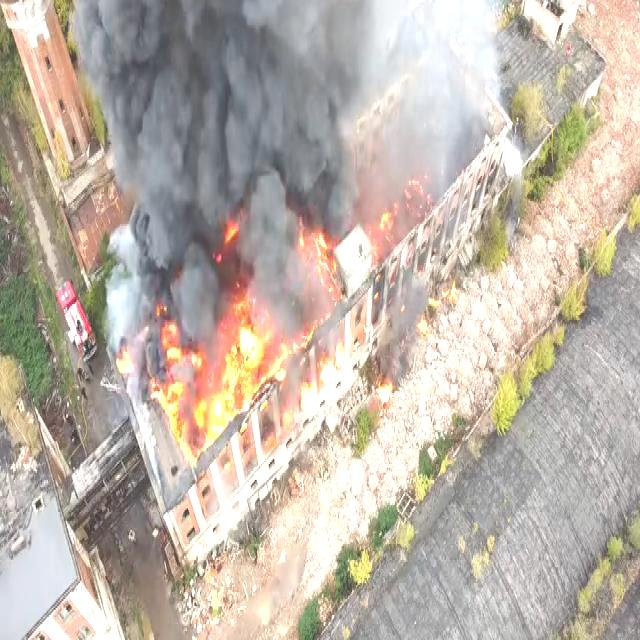fire: (166, 352, 204, 428), (198, 346, 232, 420), (219, 320, 258, 384), (293, 352, 317, 417), (180, 404, 208, 447), (314, 341, 342, 384), (372, 205, 398, 249), (157, 320, 180, 366), (408, 171, 431, 214), (311, 234, 336, 270), (258, 400, 274, 450), (394, 184, 412, 227), (378, 376, 397, 406), (116, 339, 133, 367), (326, 270, 340, 302), (418, 315, 433, 336), (449, 280, 462, 298)
smoke: (170, 78, 232, 158), (408, 77, 472, 147), (148, 163, 192, 264), (218, 137, 283, 201), (110, 86, 168, 156), (111, 226, 170, 292), (288, 89, 338, 164), (236, 82, 284, 160), (123, 4, 170, 78), (306, 4, 345, 82), (178, 252, 216, 331), (338, 6, 382, 74), (371, 6, 416, 68), (260, 5, 300, 74), (253, 188, 294, 254), (69, 0, 122, 51), (176, 4, 214, 72), (218, 8, 258, 72), (430, 38, 464, 106), (105, 280, 148, 332), (194, 163, 224, 237), (408, 3, 448, 54), (88, 37, 124, 92), (328, 156, 356, 218), (444, 5, 477, 54), (258, 263, 285, 305), (115, 147, 143, 187), (276, 242, 304, 281), (466, 49, 492, 90), (273, 296, 296, 334), (296, 272, 316, 308)
